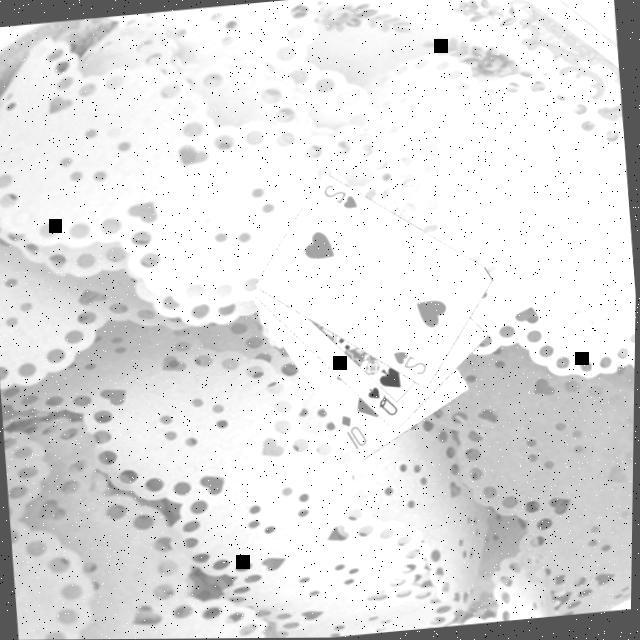10D: (338, 412, 374, 457)
2H: (320, 181, 362, 216), (391, 348, 432, 382)
QS: (365, 382, 403, 423)
